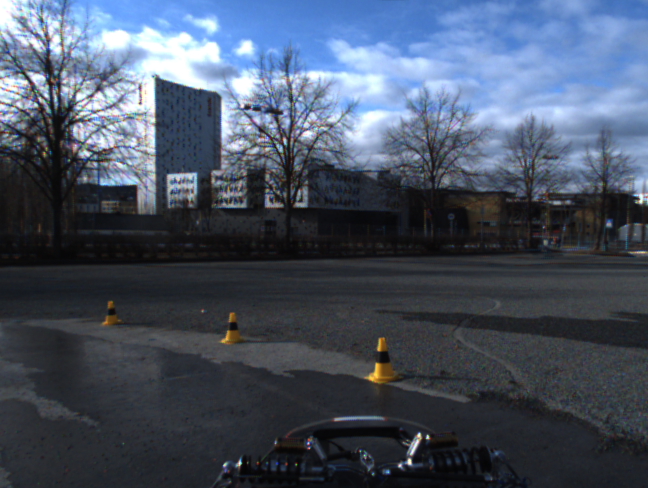cone-small-yellow: (364, 337, 404, 384), (218, 312, 245, 345), (100, 300, 123, 325)
